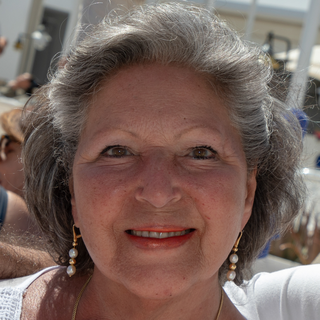eye: (95, 140, 140, 165), (178, 142, 224, 166)
